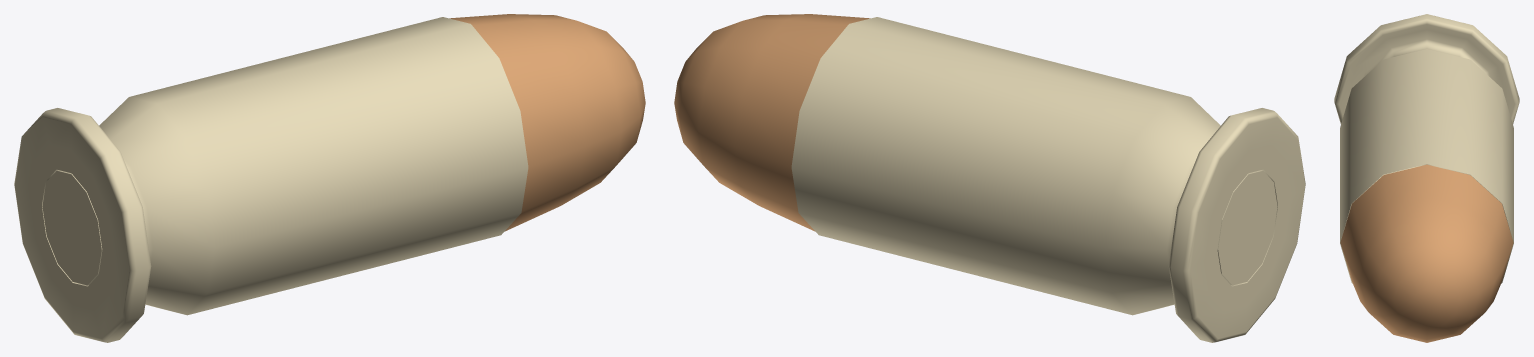
File: Bullet_passing_shot.fbx
3 views of the same model, side by side, from view 1: azimuth 30°, elevation 25°; view 2: azimuth 150°, elevation 25°; view 3: azimuth 270°, elevation 25° (orthographic). The views are drawn at different scales.
Parts seen in each view (by area): view 1: USP_45_V1_05:ACP_46; view 2: USP_45_V1_05:ACP_46; view 3: USP_45_V1_05:ACP_46.
Boxes of the visible parts, x1,y1,x2,y2 form: USP_45_V1_05:ACP_46: (14, 14, 645, 342); USP_45_V1_05:ACP_46: (674, 14, 1305, 342); USP_45_V1_05:ACP_46: (1334, 14, 1519, 342).
Size of the model in its own units: 7.94 by 2.95 by 2.95.
